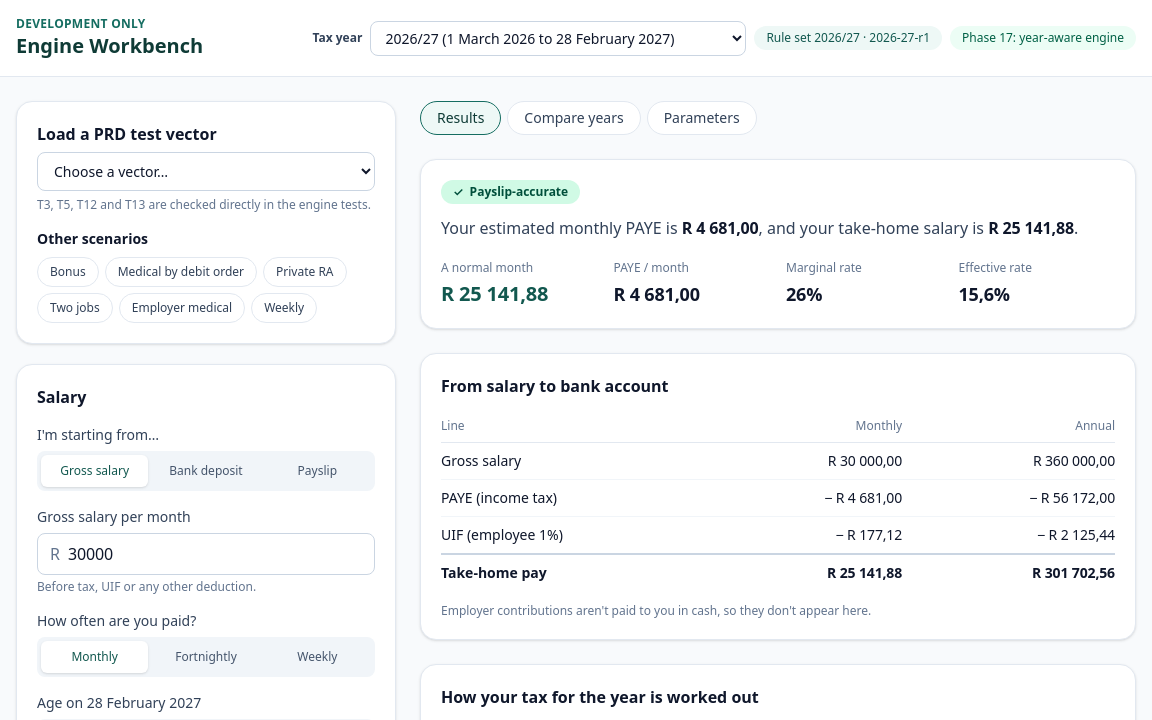
Test: Workbench: test vectors set the year › loading a 2025/26 vector switches to 2025/26 and shows its expected figures
Expected: the dropdown labelled "Tax year" shows "2026/27 (1 March 2026 to 28 February 2027)", [370,20,746,56]
Select "Y1 · R30 000, 10% pension, medical main + 1" in the dropdown labelled "Load a PRD test vector": coordinates (206, 172) [37,152,375,191]
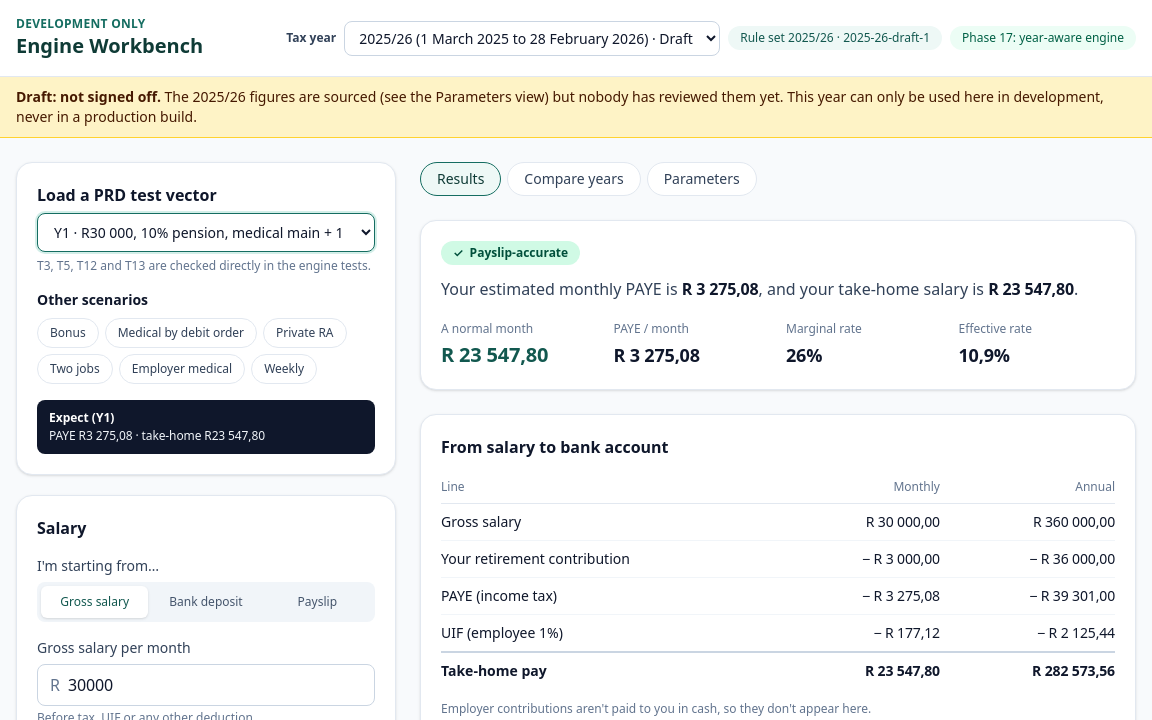
Expected: the dropdown labelled "Tax year" shows "2025/26 (1 March 2025 to 28 February 2026) · Draft", [344,20,720,56]
Expected: the text "Expect (Y1)" is shown, [49,409,114,426]
Expected: the text "Your estimated monthly PAYE is R 3 275,08" is shown, [441,277,1115,301]
Note: And back: a 2026/27 vector returns to its own year.
Select "T1 · R30 000, 10% pension, medical main + 1" in the dropdown labelled "Load a PRD test vector": coordinates (206, 232) [37,213,375,252]
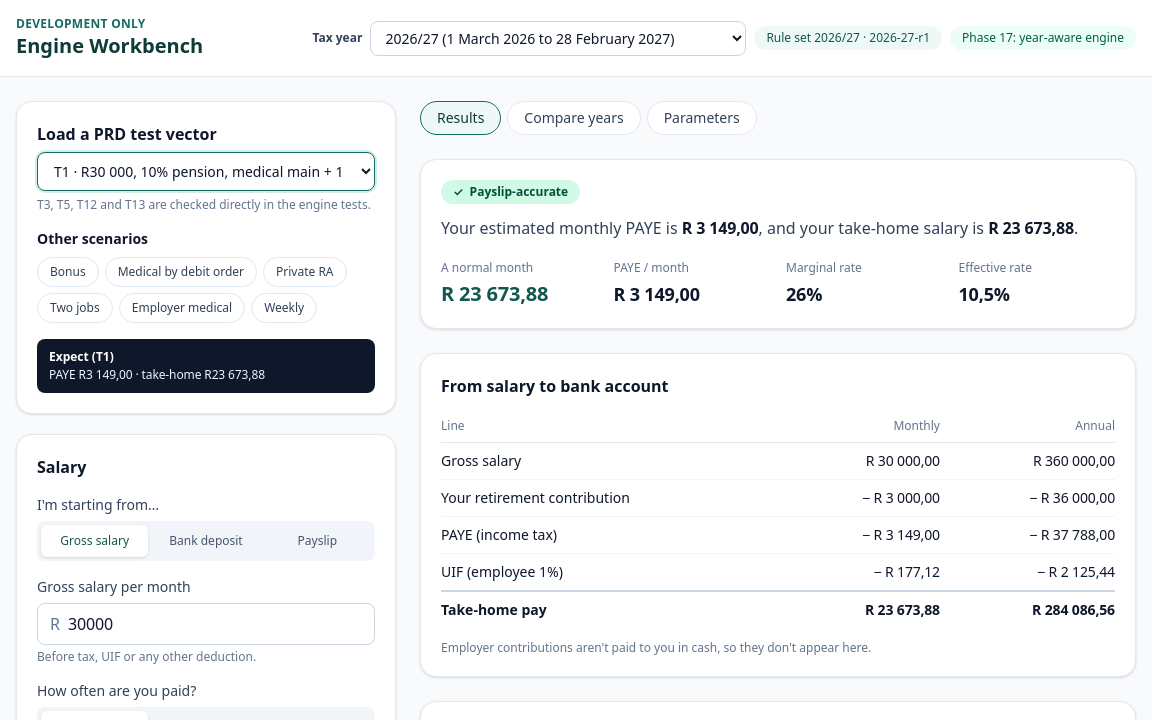
Expected: the dropdown labelled "Tax year" shows "2026/27 (1 March 2026 to 28 February 2027)", [370,20,746,56]
